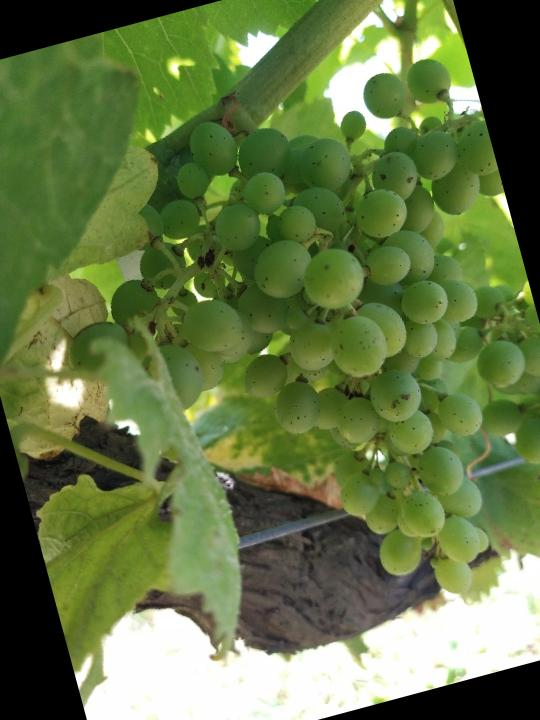grape: (11, 48, 540, 682)
